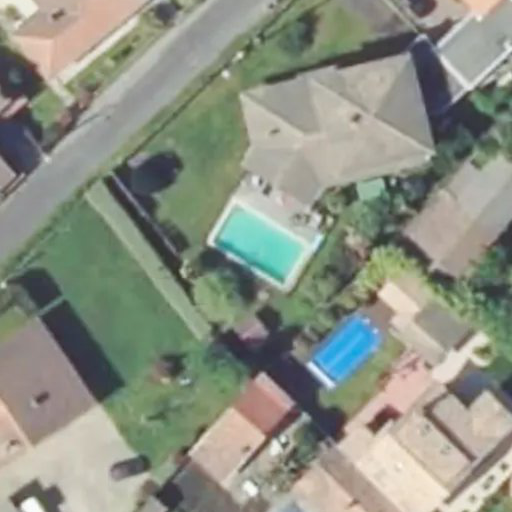pool: (213, 196, 308, 287), (314, 306, 378, 388)
